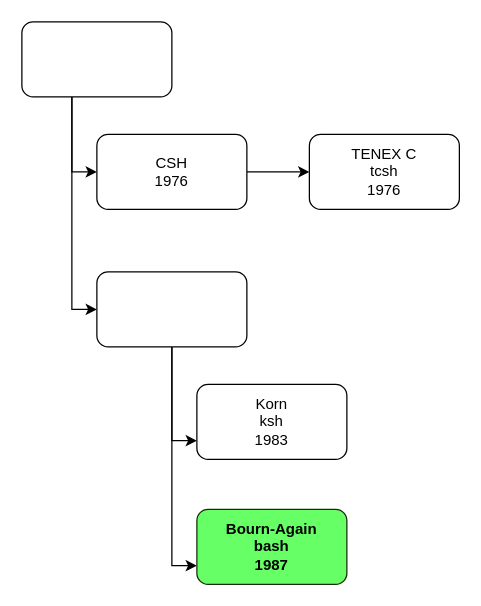
This 481x606 diagram has some shape labels left out. Here are the shapes that lost their labels. From the top down, the box of each, then its label:
(21, 21, 172, 97): Thomson Shell 1971
(96, 271, 247, 347): Bourne sh 1977
